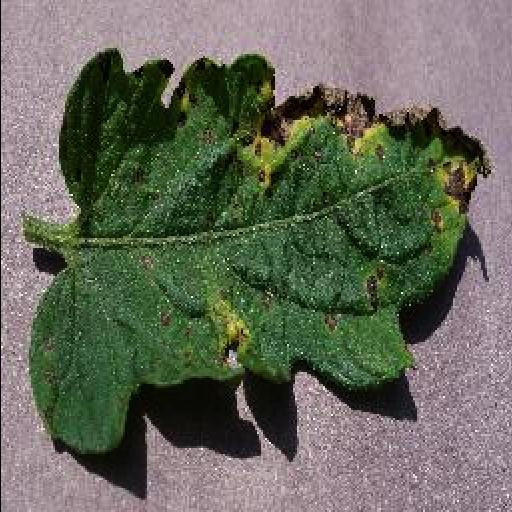disease_tomato: (30, 56, 486, 458)
